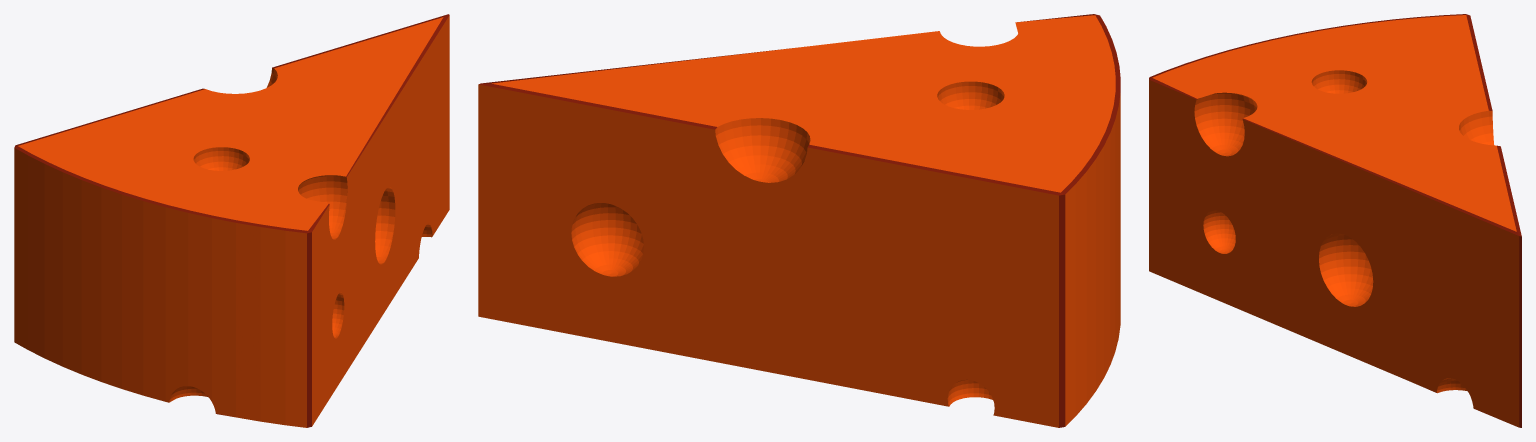
File: cheese.fbx
3 renders of one model, left to right at view 1: azimuth 30°, elevation 25°; view 2: azimuth 150°, elevation 25°; view 3: azimuth 270°, elevation 25°, orthographic. The views are drawn at different scales.
Parts seen in each view (by area): view 1: Cylindre; view 2: Cylindre; view 3: Cylindre.
Part boxes in pixels (left/top/right/bottom): Cylindre: left=14, top=14, right=449, bottom=427; Cylindre: left=478, top=14, right=1120, bottom=427; Cylindre: left=1149, top=14, right=1521, bottom=427.
Size of the model in its own units: 345 by 140 by 244.
